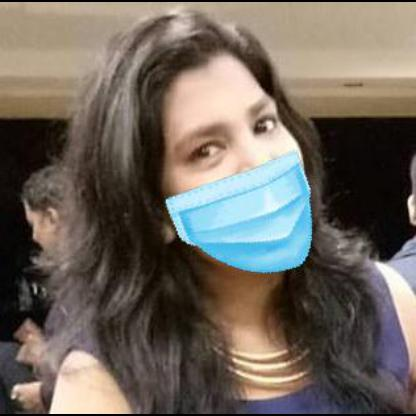Surgical Mask: (140, 70, 322, 274)
